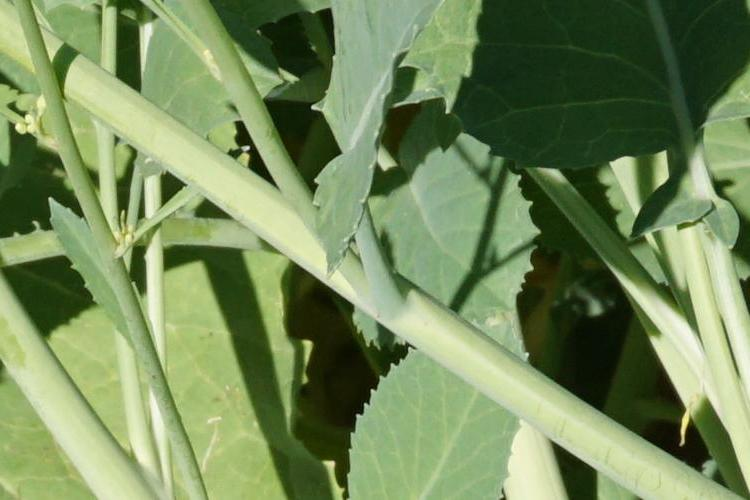bud: (26, 123, 38, 138), (18, 124, 27, 135), (27, 113, 34, 124)
